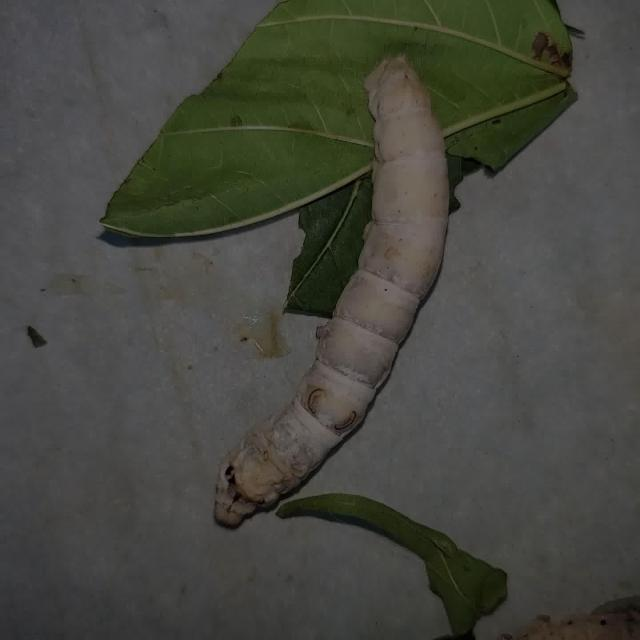Grasserie: (191, 48, 521, 530)
